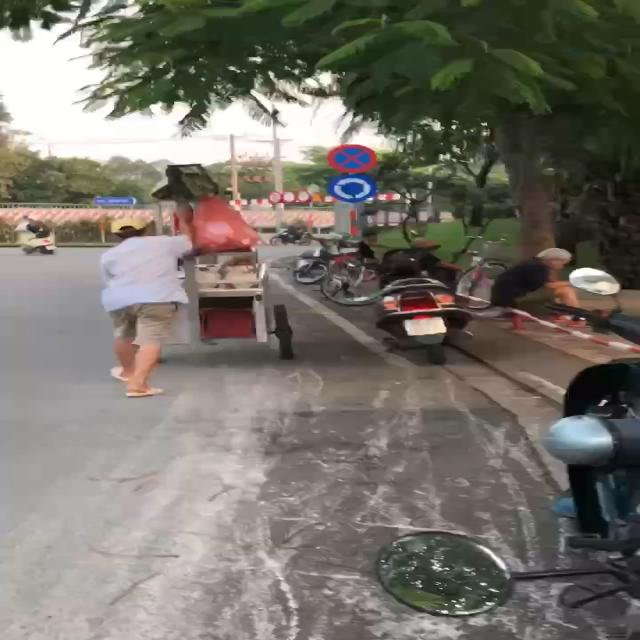Bien bao cam dung xe va do xe: (323, 142, 378, 174)
Bien bao noi giao nhau chay theo vong xuyen: (326, 175, 384, 203)
